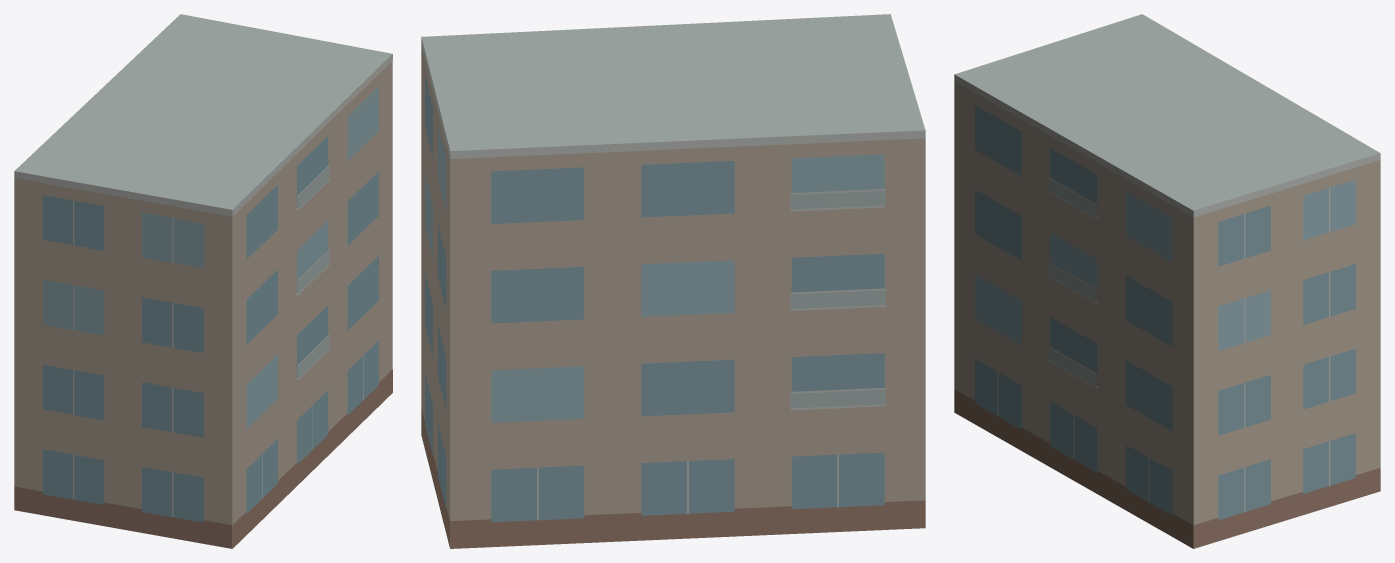
Rendered from survey-upis-32801602.glb.
The picture shows the model from 3 angles, left to right: view 1: azimuth 30°, elevation 25°; view 2: azimuth 150°, elevation 25°; view 3: azimuth 270°, elevation 25°; orthographic projection. The views are drawn at different scales.
Parts seen in each view (by area): view 1: survey-upis-32801602.tmp; view 2: survey-upis-32801602.tmp; view 3: survey-upis-32801602.tmp.
Boxes of the visible parts, bbox=[...] form: survey-upis-32801602.tmp: bbox=[14, 14, 392, 548]; survey-upis-32801602.tmp: bbox=[421, 14, 925, 548]; survey-upis-32801602.tmp: bbox=[954, 14, 1380, 548].
Bounding box in the file's own units: 15.23 × 12.2 × 13.95.
